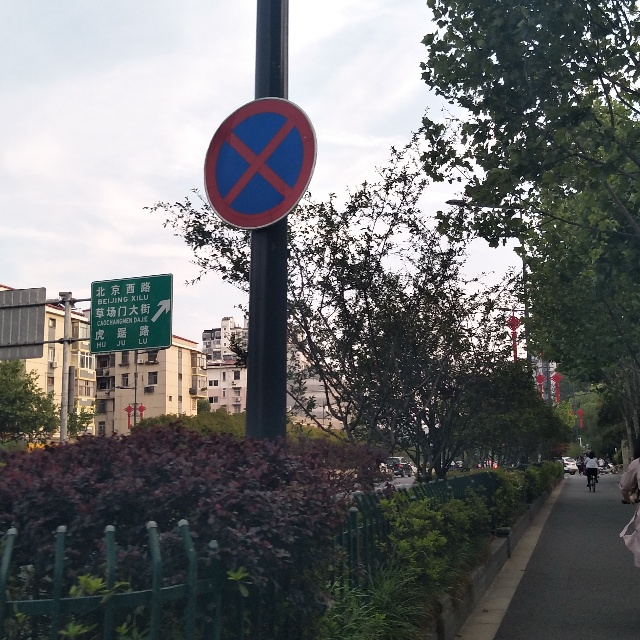stop: (210, 107, 303, 209)
